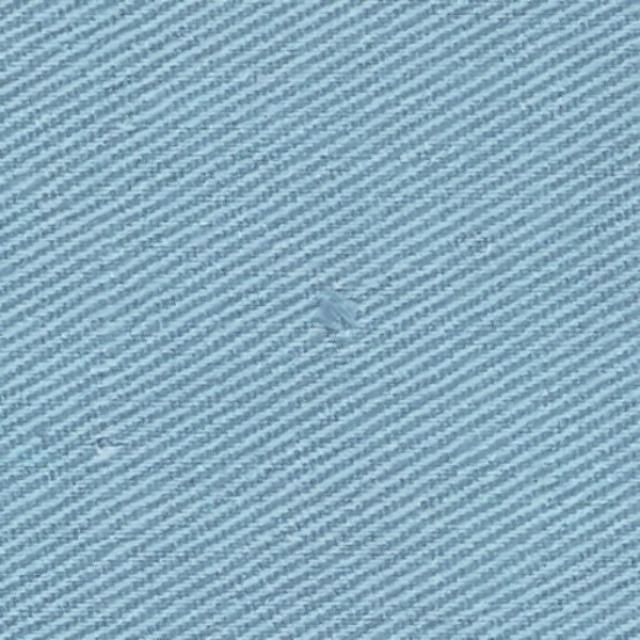seam: (256, 280, 436, 388)
